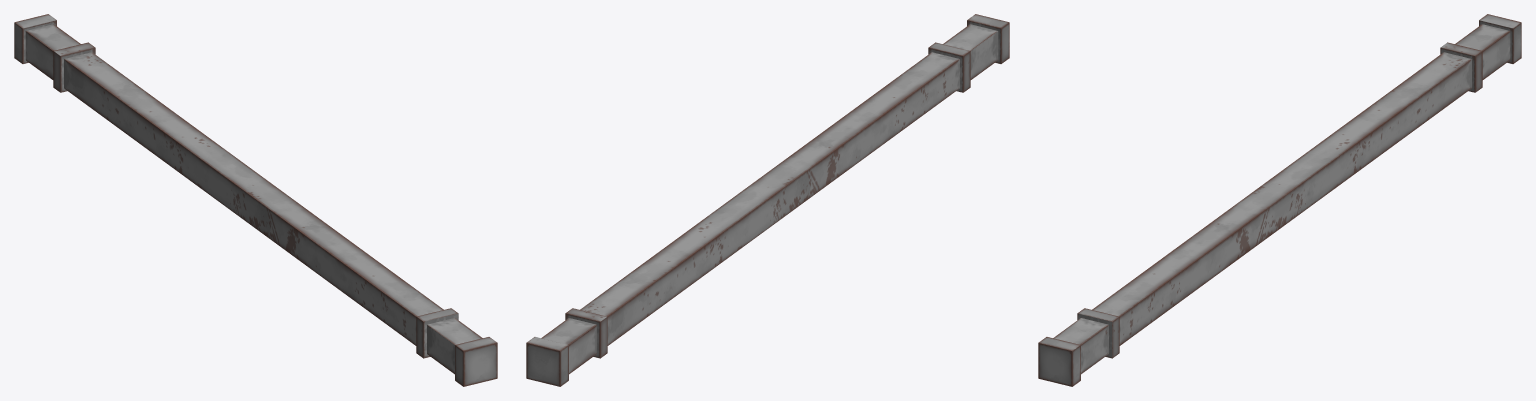
File: FactoryConst_Block_2.fbx
The picture shows the model from 3 angles, left to right: view 1: azimuth 30°, elevation 25°; view 2: azimuth 150°, elevation 25°; view 3: azimuth 330°, elevation 25°; orthographic projection.
Parts seen in each view (by area): view 1: Cube.051; view 2: Cube.051; view 3: Cube.051.
Part boxes in pixels (box(x1,y1,x2,y2)): Cube.051: box(14, 14, 497, 386); Cube.051: box(526, 14, 1009, 386); Cube.051: box(1038, 14, 1521, 386).
Bounding box in the file's own units: 69.77 × 69.77 × 1551.
Materials: 1 (1 with a texture image).
